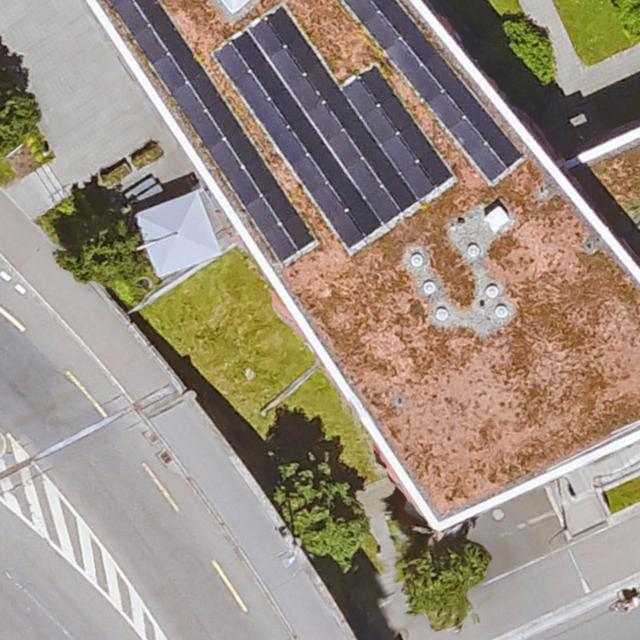tree: (280, 469, 368, 560), (401, 538, 489, 624), (64, 220, 157, 293), (0, 92, 41, 158)
